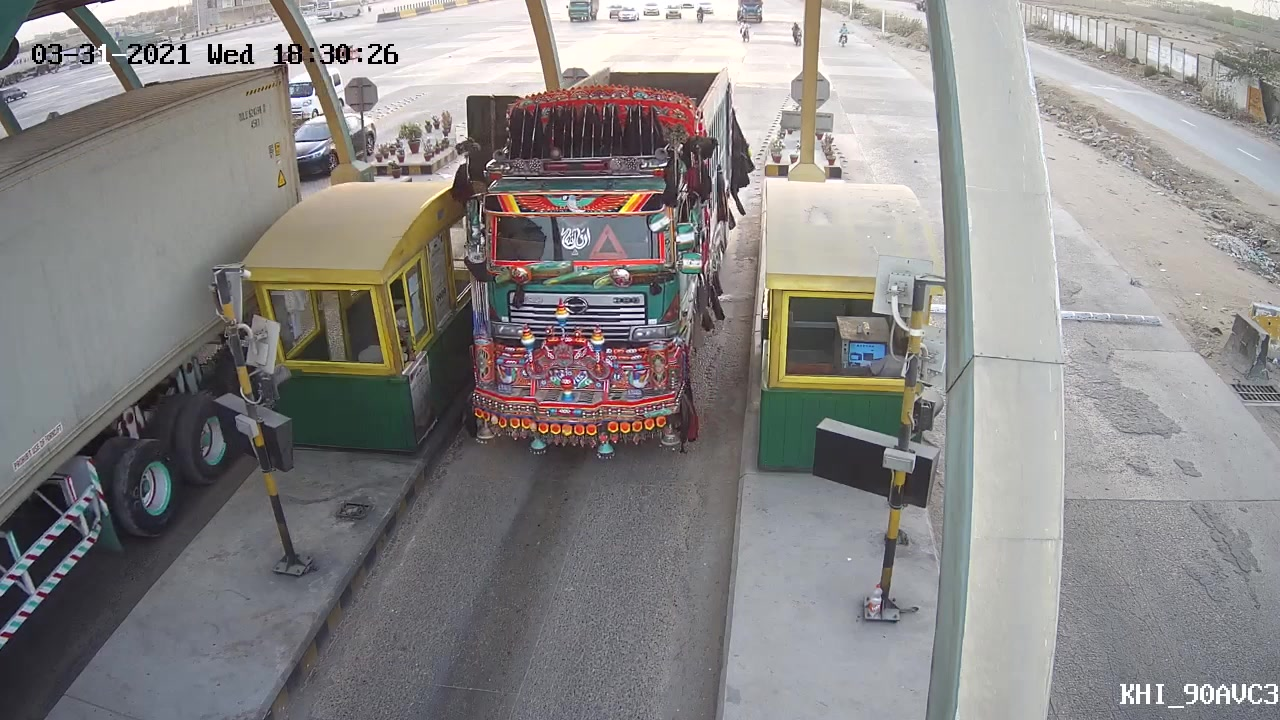F5: (444, 81, 739, 466)
